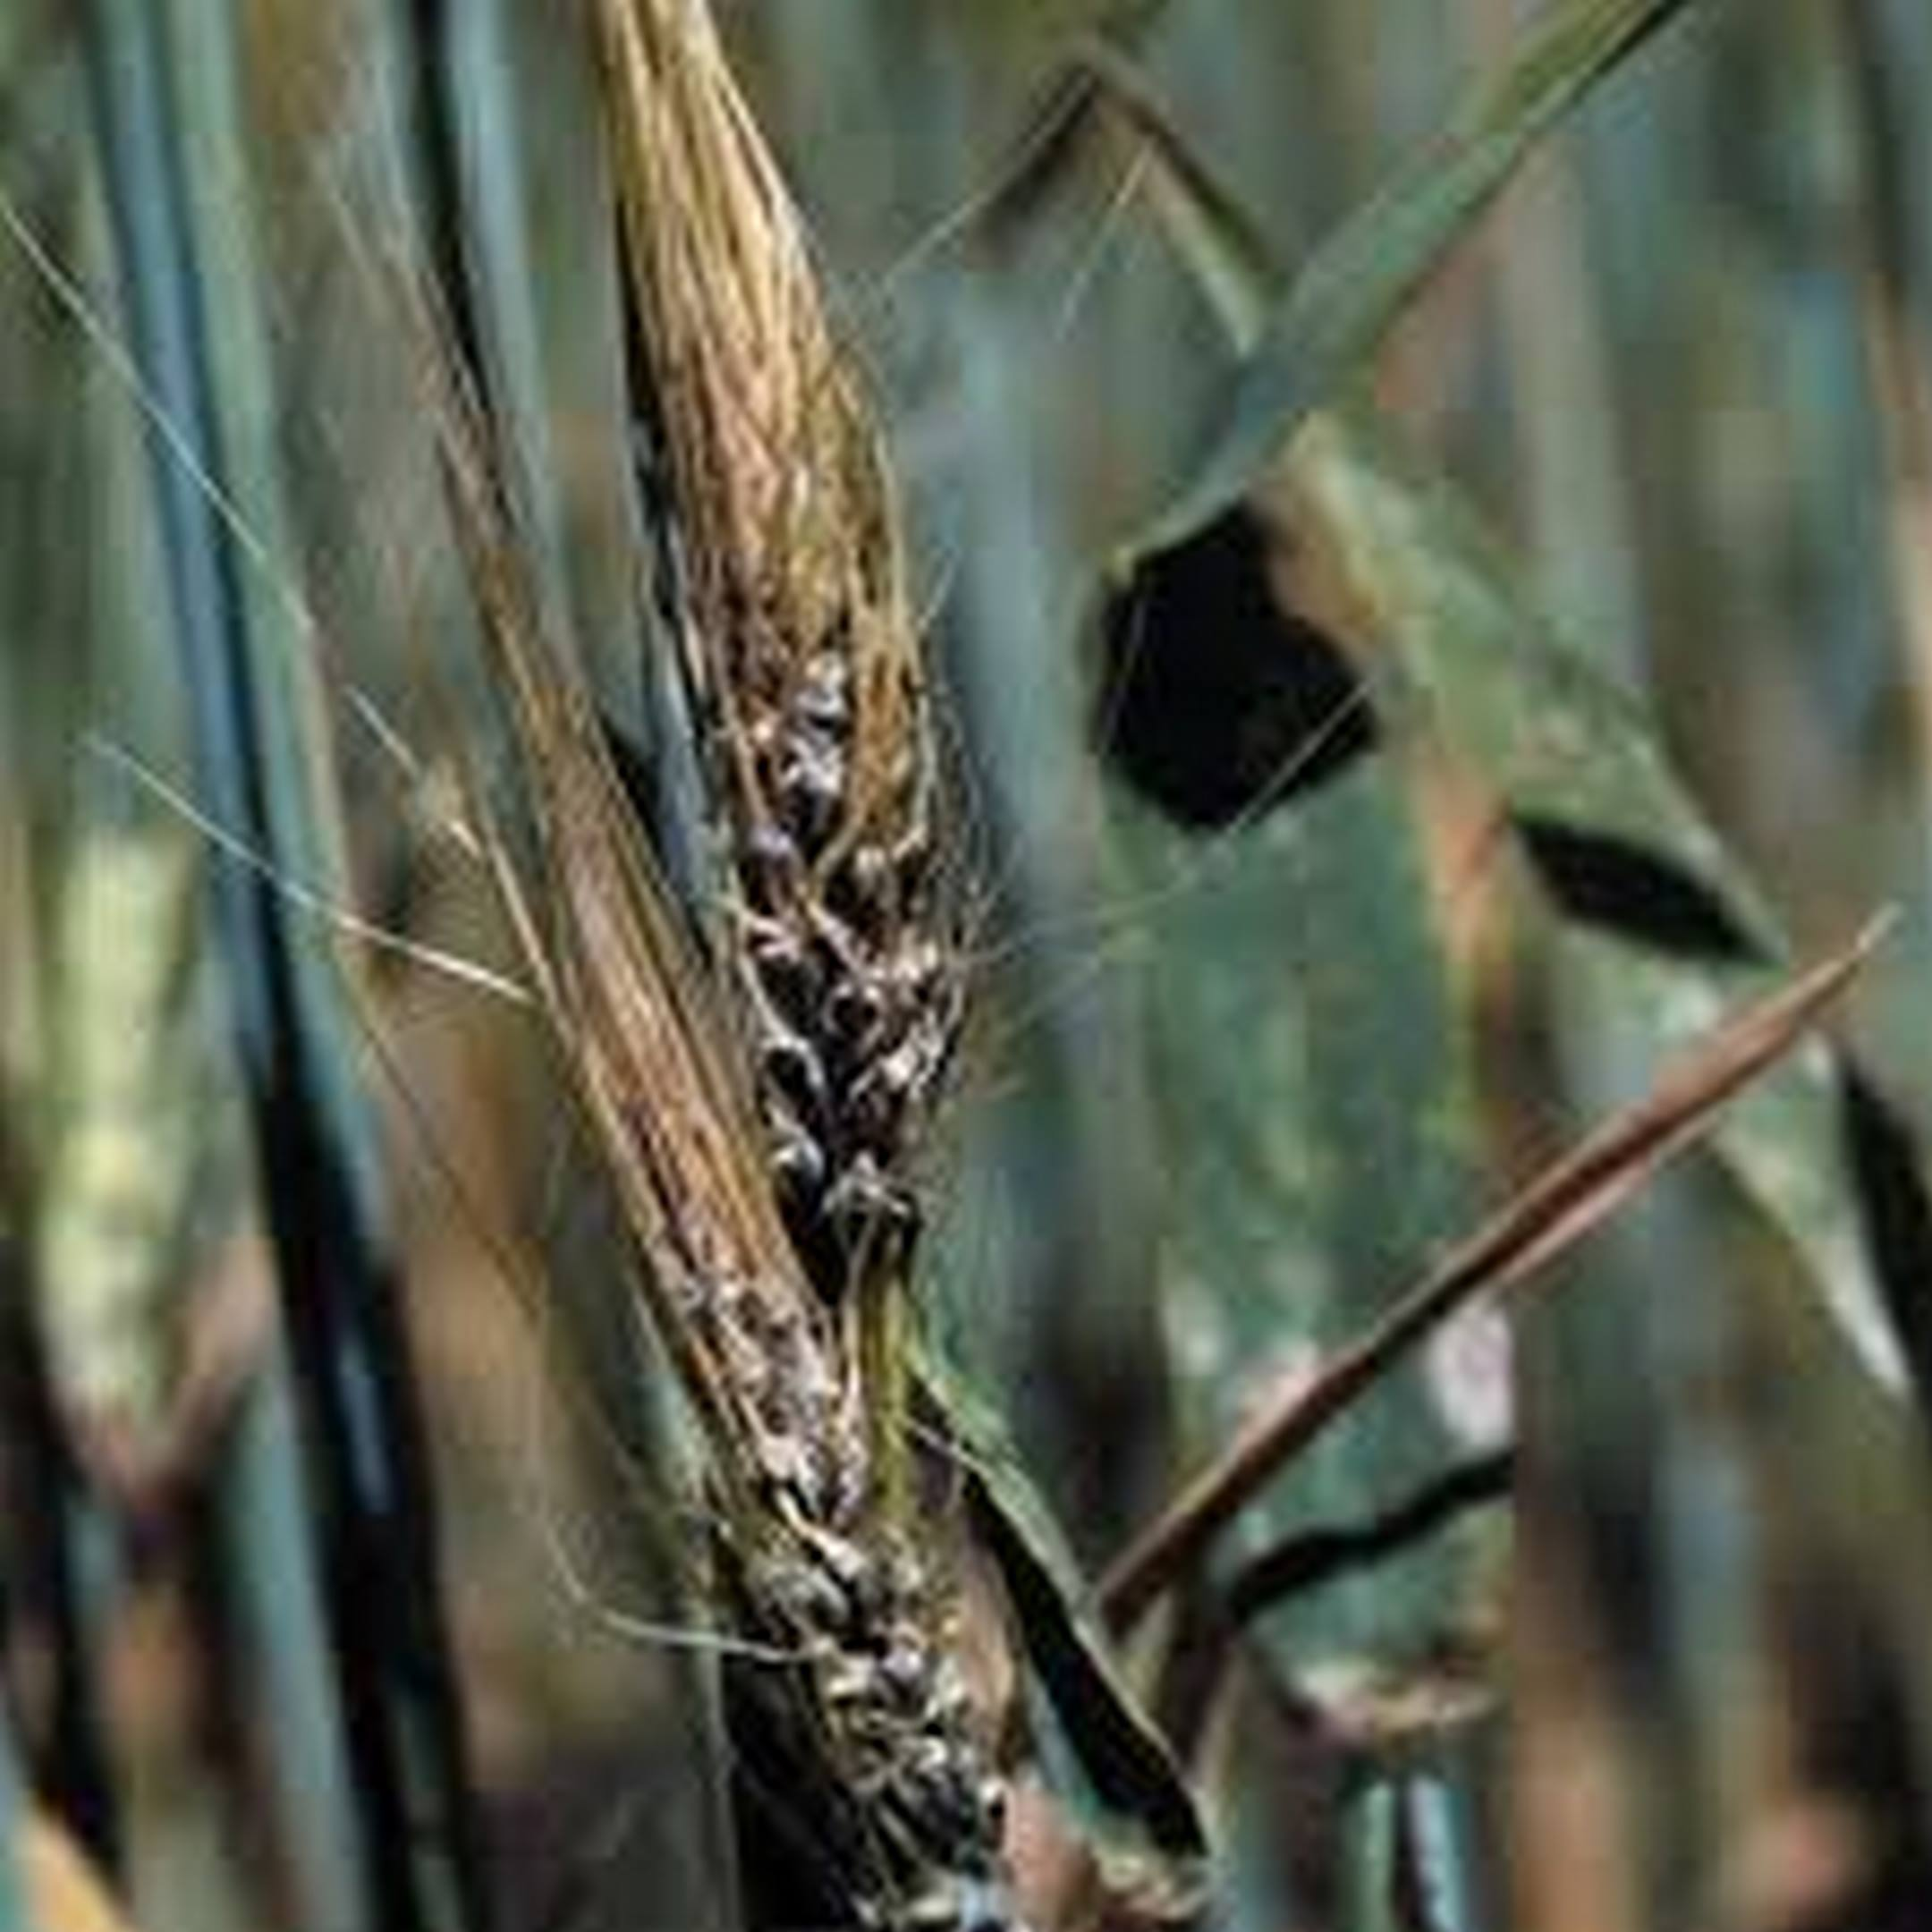Wheat Loose Smut: (623, 442, 1037, 1320), (663, 1371, 1069, 1877)
